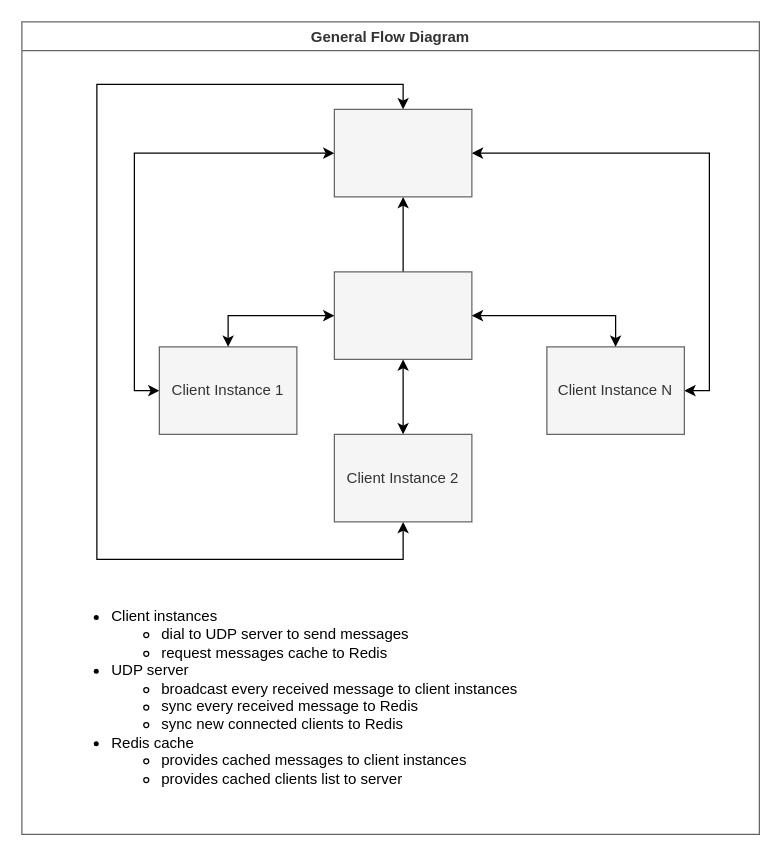
This 781x856 diagram has some shape labels left out. Here are the shapes that lost their labels. From the top down, the box of each, then its label:
(333, 108, 472, 197): Redis cache
(333, 271, 472, 359): UDP server
